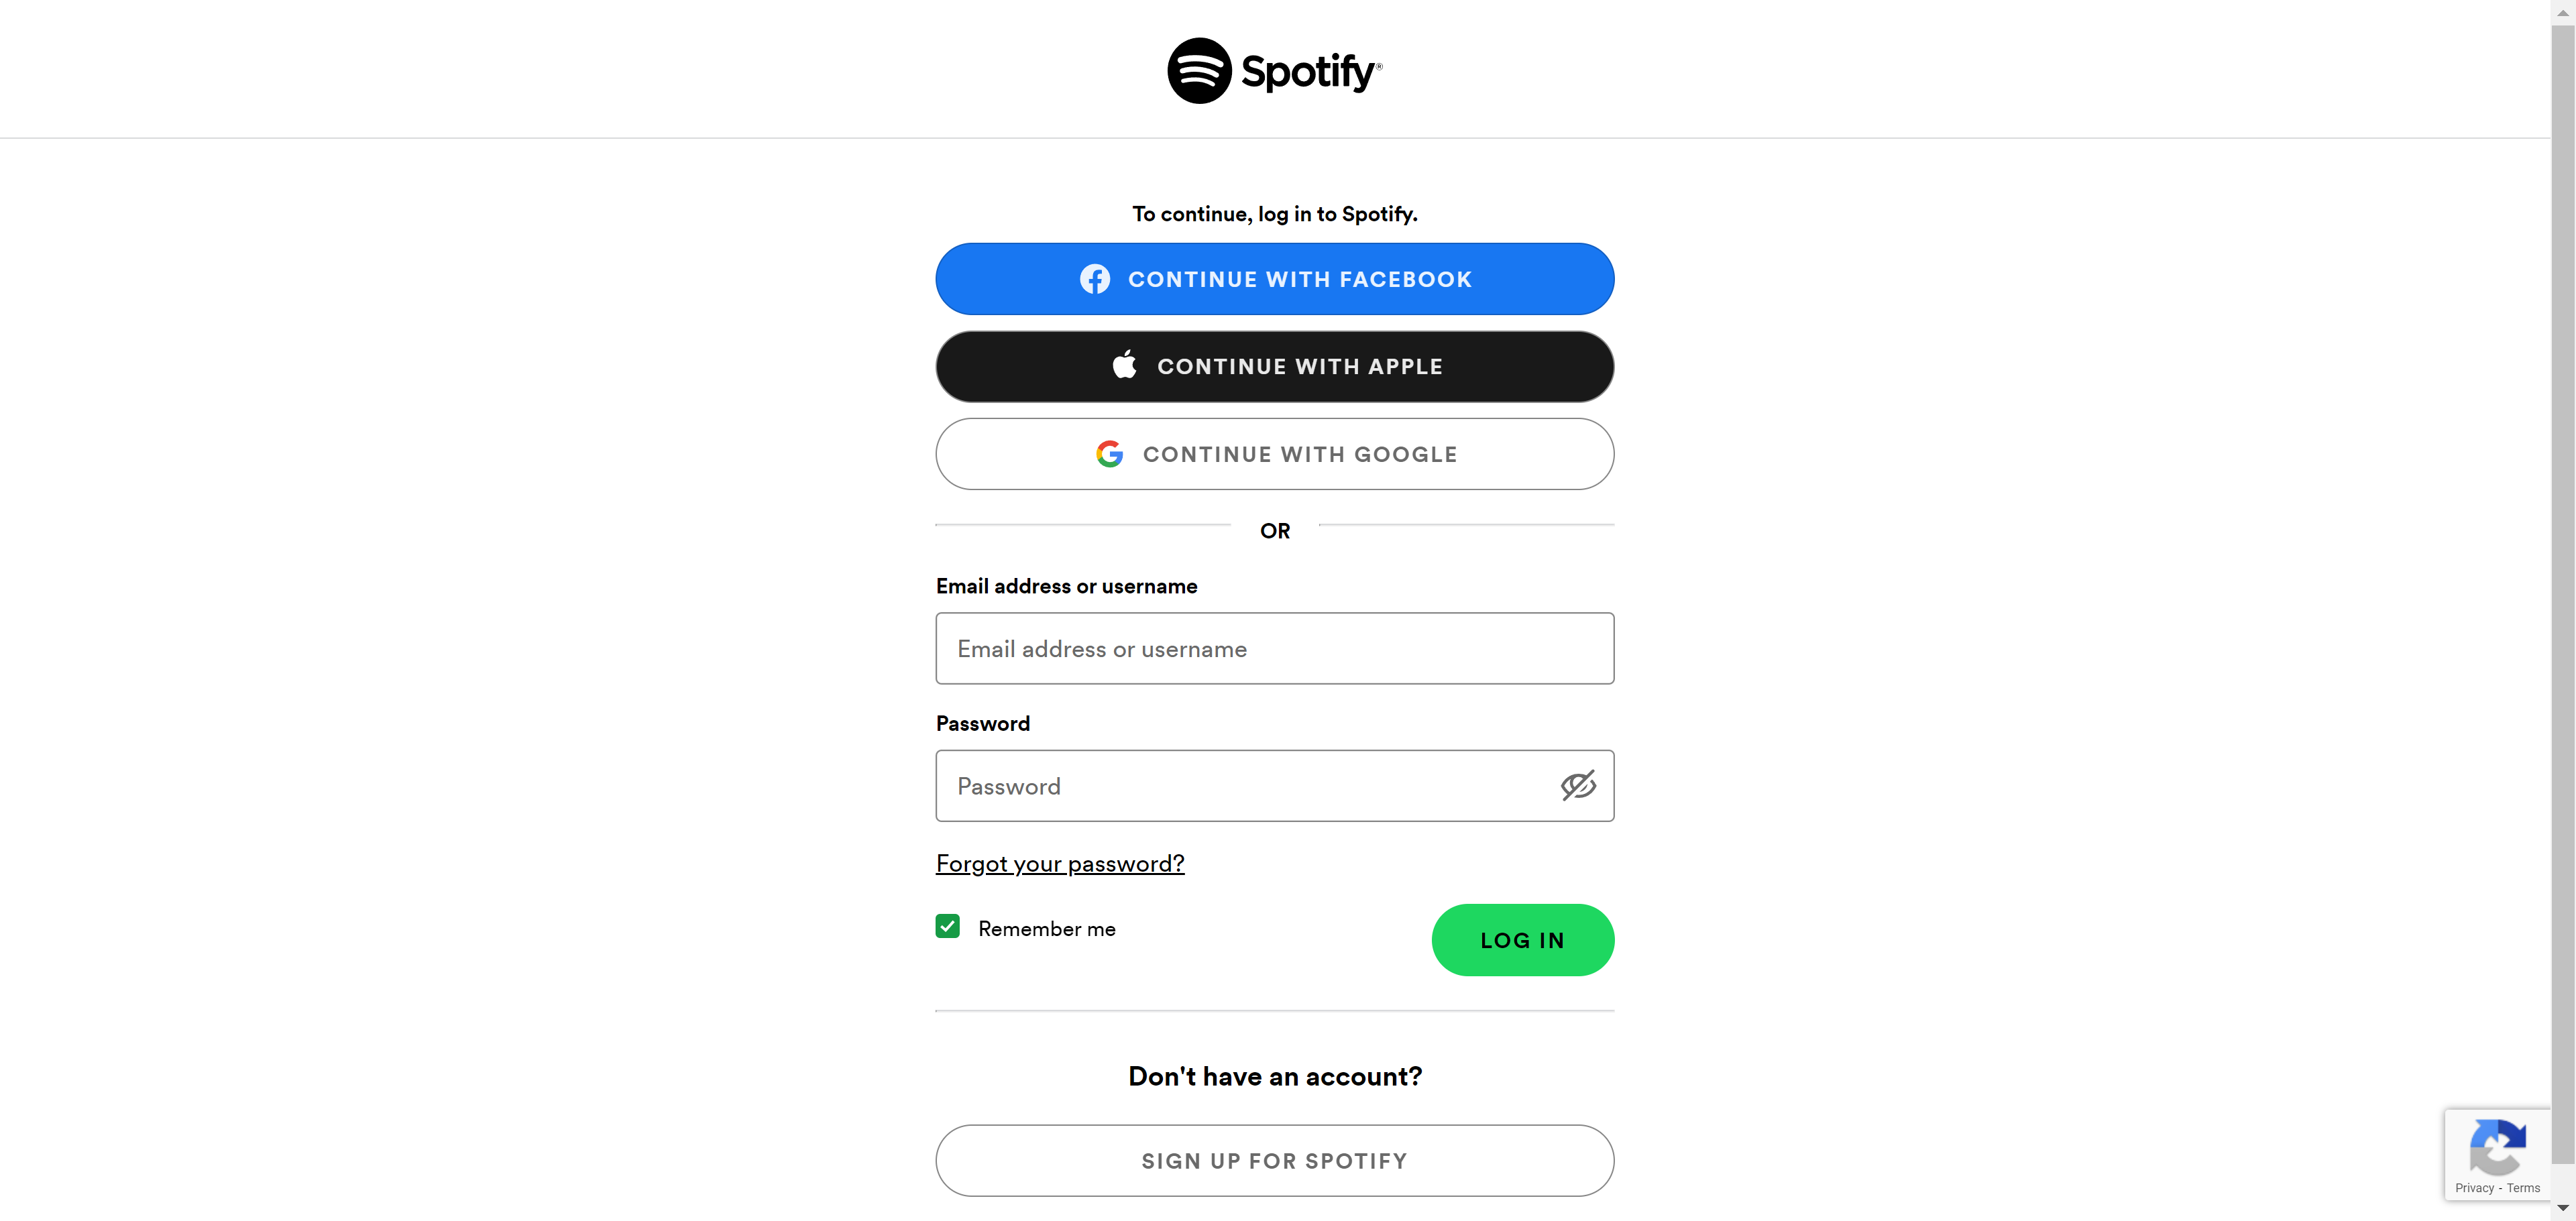login_button: (1433, 904, 1615, 976)
login_form: (927, 569, 1625, 991)
